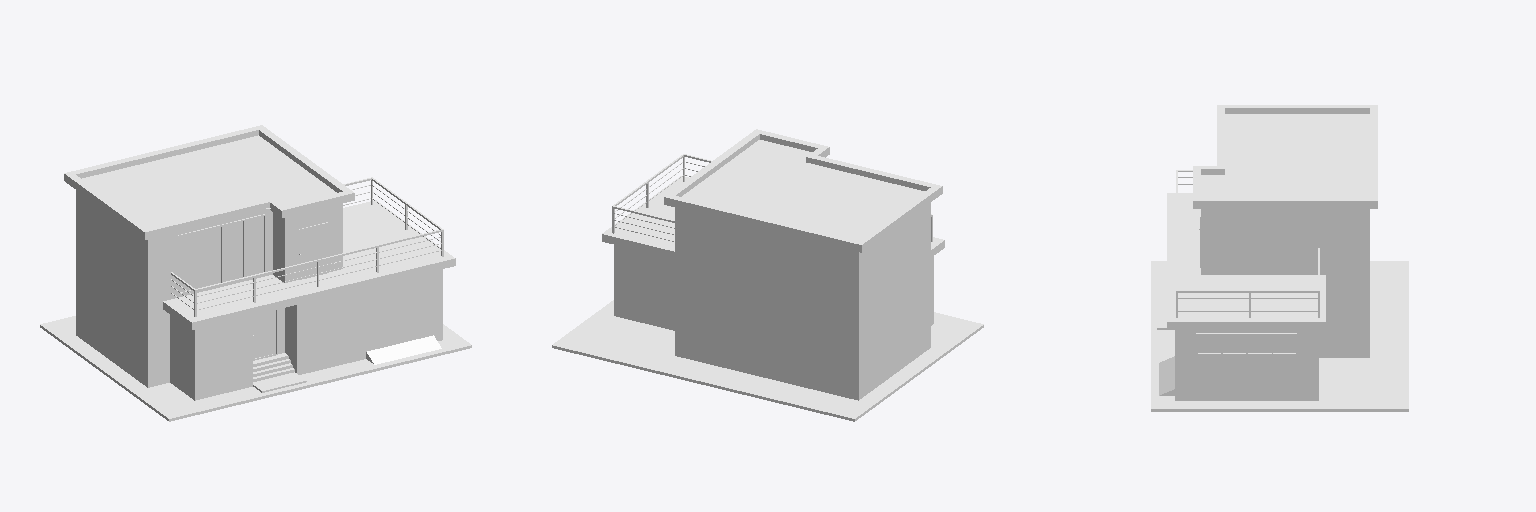
File: Building_House_02_color01.obj
3 views of the same model, side by side, from view 1: azimuth 30°, elevation 25°; view 2: azimuth 150°, elevation 25°; view 3: azimuth 270°, elevation 25° (orthographic).
Size of the model in its own units: 1758 by 904 by 1301.